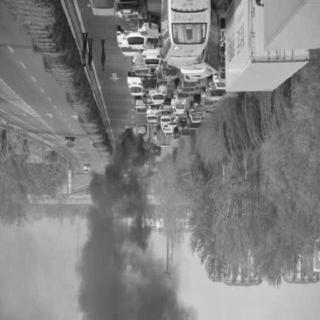Fire: (130, 127, 152, 145)
Smoke: (78, 148, 156, 318)
